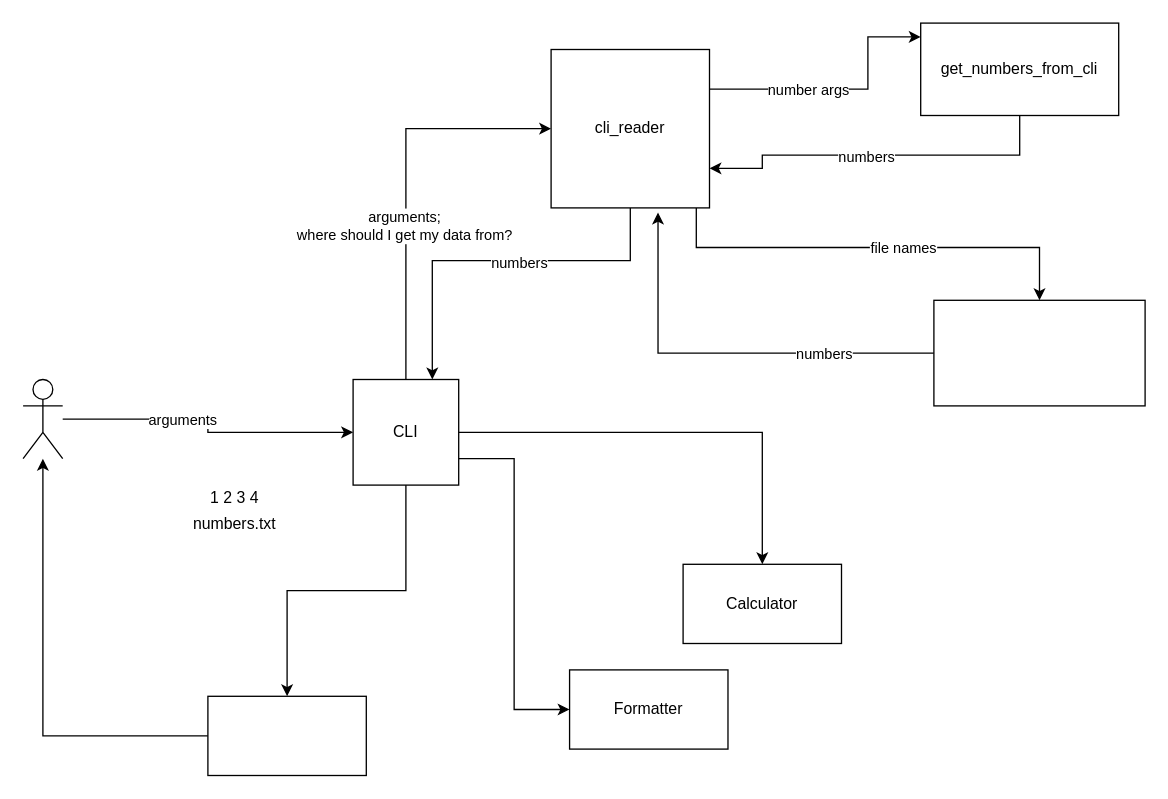
This 1168x799 diagram has some shape labels left out. The box of each missing label's shape, as (x1, y1, x2, y2) in pixels:
get_numbers_from_file: (933, 299, 1145, 406)
Printer: (207, 695, 366, 776)
User: (22, 378, 63, 459)
